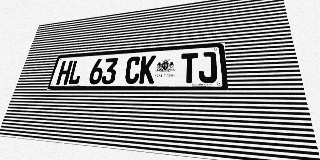3: (101, 58, 118, 84)
6: (88, 58, 105, 84)
C: (124, 56, 141, 84)
H: (56, 60, 73, 85)
J: (198, 51, 217, 83)
K: (139, 55, 156, 84)
L: (67, 60, 84, 85)
T: (181, 53, 198, 83)
